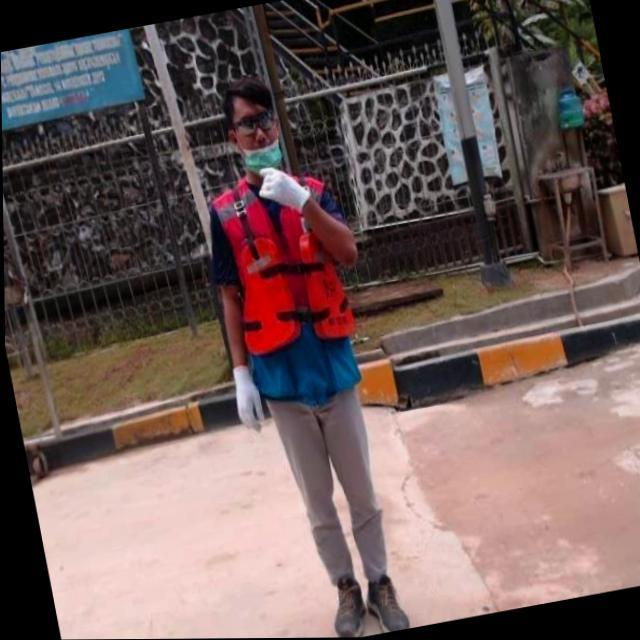goggles_on: (230, 111, 280, 135)
